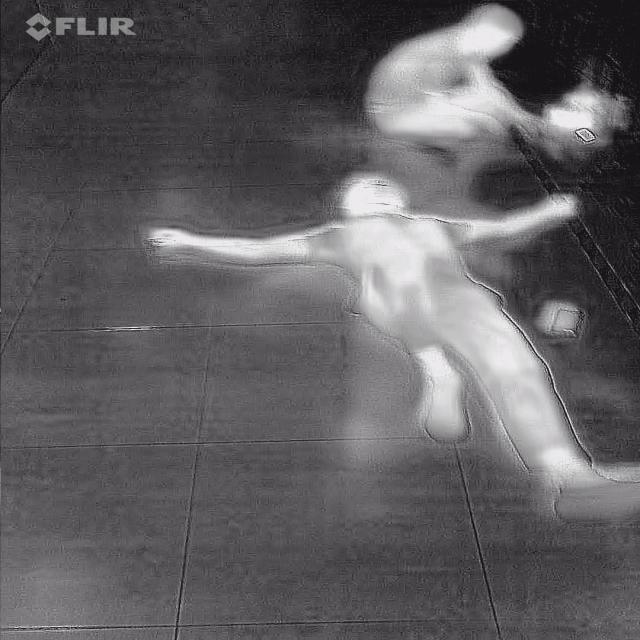Victim: (140, 166, 635, 530), (344, 1, 551, 149)
